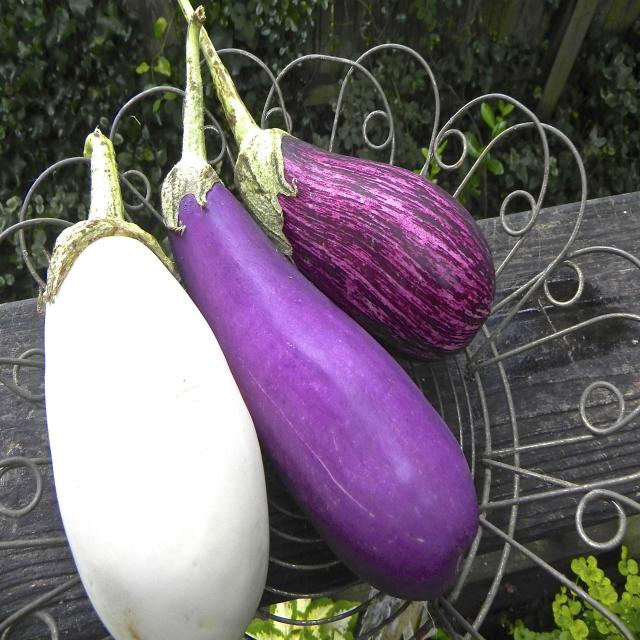Eggplant-r1Ob: (161, 10, 479, 600), (41, 130, 269, 638), (200, 28, 495, 358)
